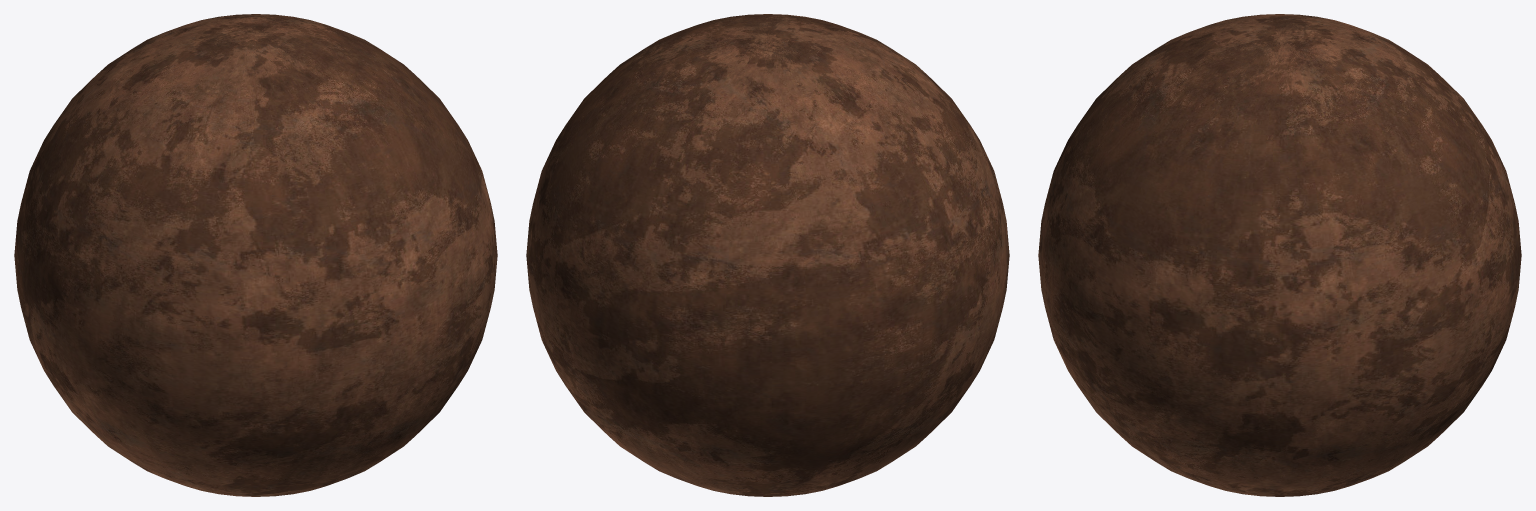
The model's file is mars.fbx.
3 renders of one model, left to right at view 1: azimuth 30°, elevation 25°; view 2: azimuth 150°, elevation 25°; view 3: azimuth 270°, elevation 25°, orthographic.
Visible parts, largest first — view 1: Object_8.001; view 2: Object_8.001; view 3: Object_8.001.
Boxes of the visible parts, x1,y1,x2,y2 form: Object_8.001: [14, 14, 497, 496]; Object_8.001: [526, 14, 1009, 496]; Object_8.001: [1038, 14, 1521, 496].
Size of the model in its own units: 1296 by 1296 by 1296.
